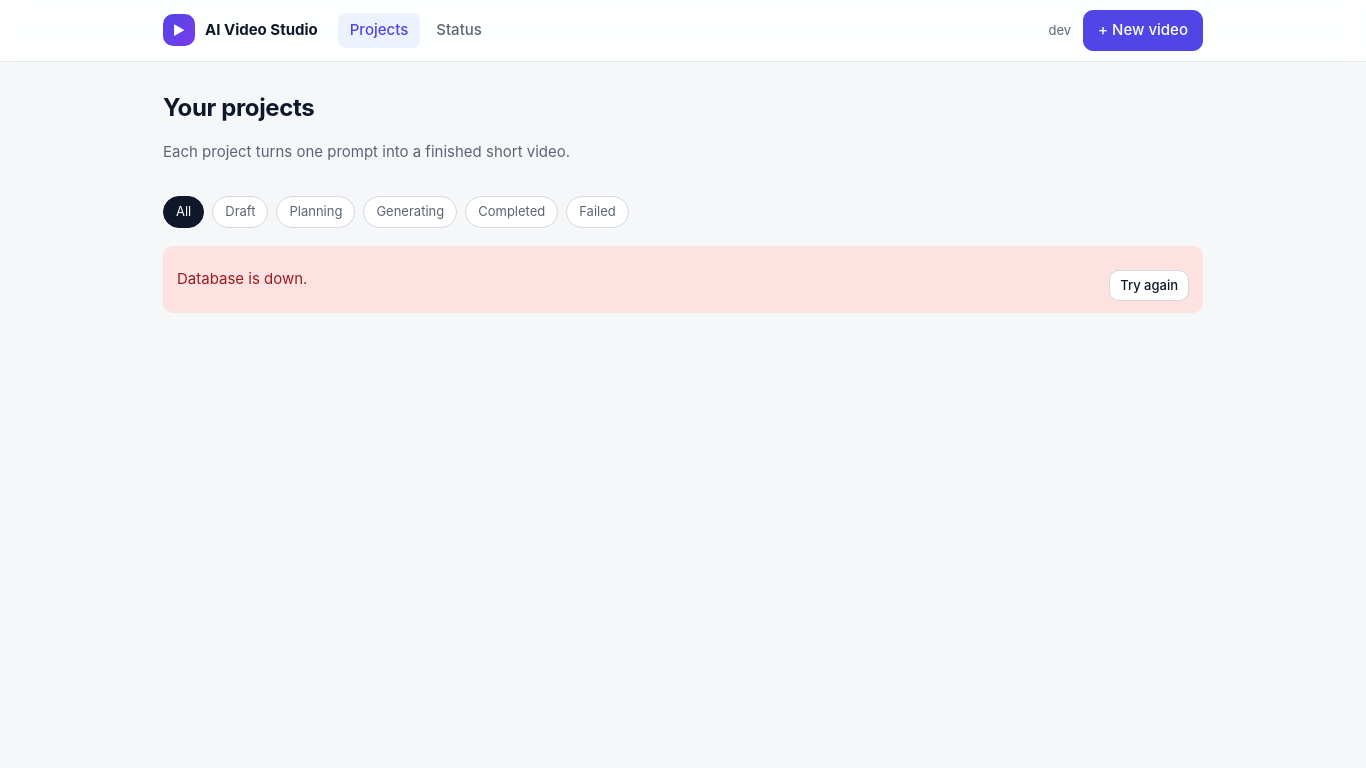
Test: projects list › shows a retryable error
Expected: the text "Database is down." is shown, [177, 268, 307, 290]
Click the button "Try again".
click(1149, 285)  # box [1109, 270, 1189, 301]
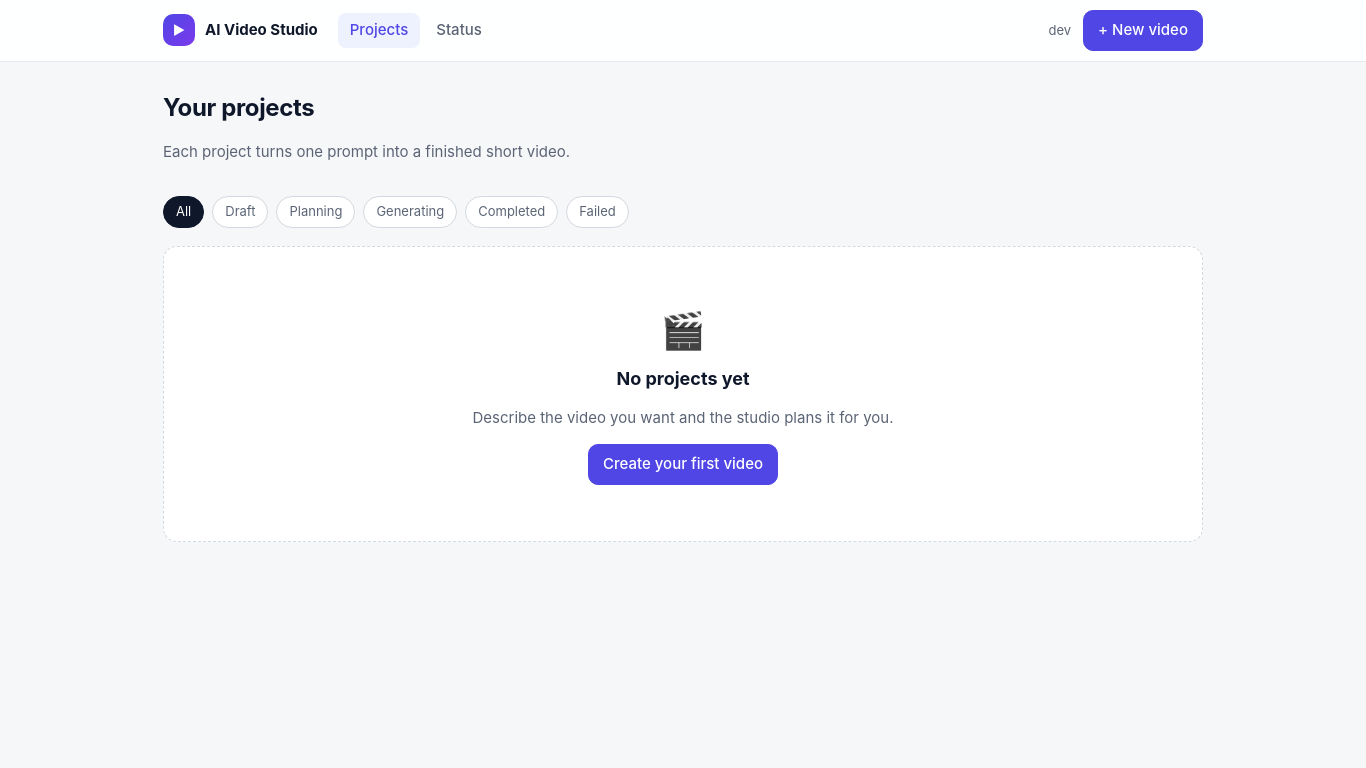
Expected: the heading "No projects yet" is shown, [616, 368, 750, 388]
